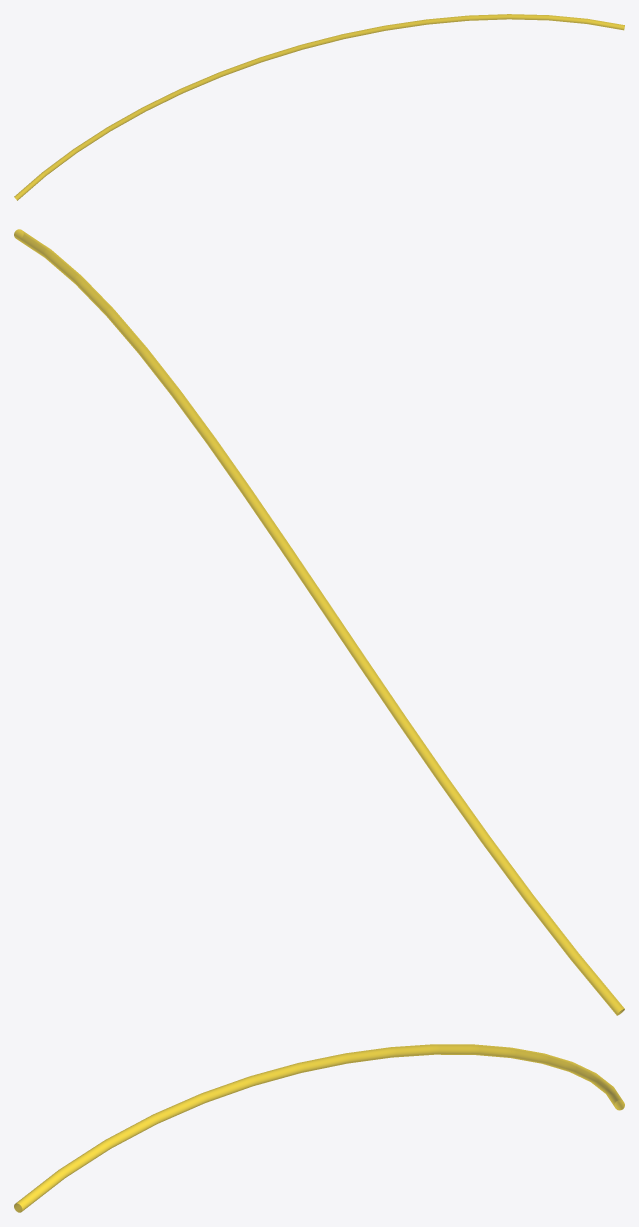
The model's file is Event_100608114_track_37.fbx.
3 renders of one model, top to bottom at view 1: azimuth 30°, elevation 25°; view 2: azimuth 150°, elevation 25°; view 3: azimuth 270°, elevation 25°, orthographic. The views are drawn at different scales.
Visible parts, largest first — view 1: Model; view 2: Model; view 3: Model.
Boxes of the visible parts, bbox=[...] form: Model: bbox=[14, 14, 624, 200]; Model: bbox=[14, 229, 624, 1015]; Model: bbox=[14, 1044, 624, 1212].
Size of the model in its own units: 3.97 by 1.5 by 2.31.
